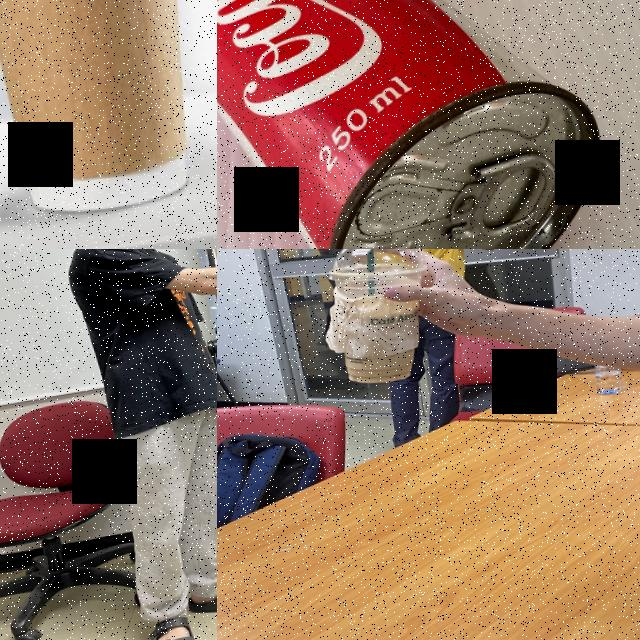can: (217, 0, 624, 249)
cup: (0, 0, 217, 228), (323, 249, 443, 389)
